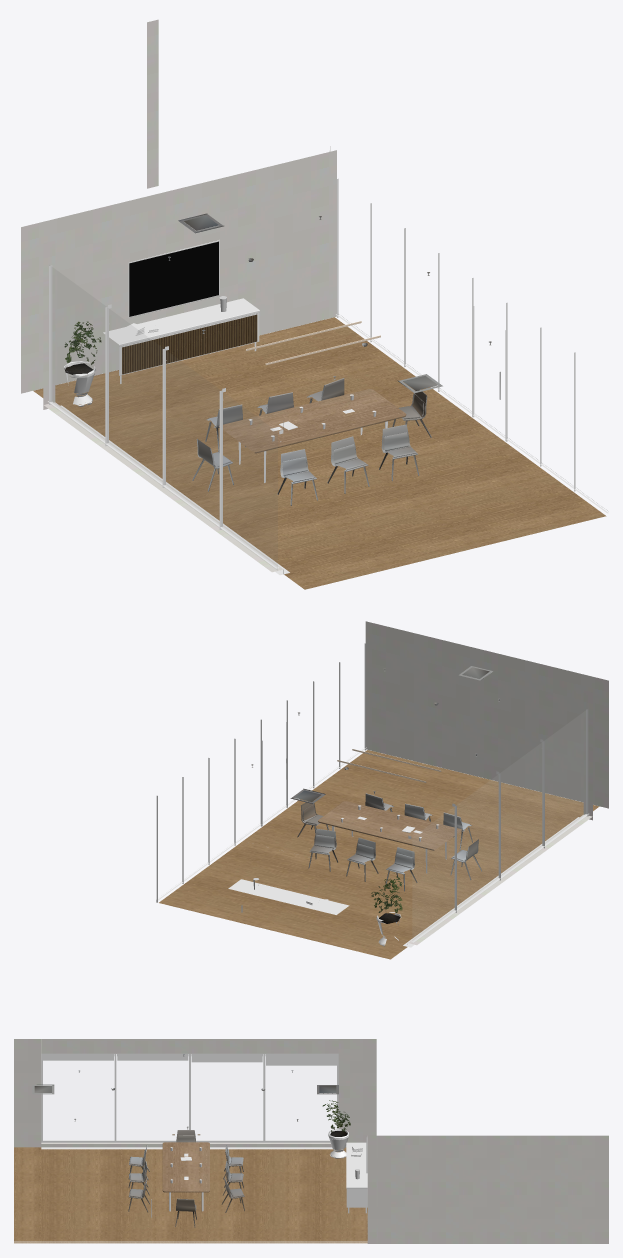
Rendered from z-meeting-lite.light.0806d41d.glb.
3 renders of one model, top to bottom at view 1: azimuth 30°, elevation 25°; view 2: azimuth 150°, elevation 25°; view 3: azimuth 270°, elevation 25°, orthographic. The views are drawn at different scales.
Parts seen in each view (by area): view 1: meeting_oak, meeting_plaster, meeting_satin, meeting_fx, meeting_emit, meeting_proxy_cab, meeting_veg_atlas; view 2: meeting_oak, meeting_plaster, meeting_satin, meeting_fx, meeting_veg_atlas; view 3: meeting_plaster, meeting_oak, meeting_satin, meeting_fx, meeting_veg_atlas, meeting_metal_lit.
Part boxes in pixels (box(x1,y1,x2,y2)): meeting_oak: box(33, 317, 606, 589); meeting_plaster: box(21, 19, 336, 573); meeting_satin: box(48, 178, 608, 575); meeting_fx: box(168, 213, 491, 505); meeting_emit: box(129, 241, 380, 365); meeting_proxy_cab: box(122, 314, 257, 374); meeting_veg_atlas: box(64, 321, 101, 374); meeting_oak: box(159, 750, 599, 959); meeting_plaster: box(365, 621, 608, 945); meeting_satin: box(156, 643, 588, 947); meeting_fx: box(251, 666, 500, 891); meeting_veg_atlas: box(371, 873, 402, 923); meeting_plaster: box(14, 1039, 608, 1243); meeting_oak: box(14, 1142, 367, 1243); meeting_satin: box(14, 1053, 367, 1242); meeting_fx: box(32, 1054, 338, 1227); meeting_veg_atlas: box(322, 1100, 350, 1136); meeting_metal_lit: box(41, 1149, 332, 1217).
Bounding box in the file's own units: 6.55 × 3.3 × 16.4.
10 materials, 5 textured.
